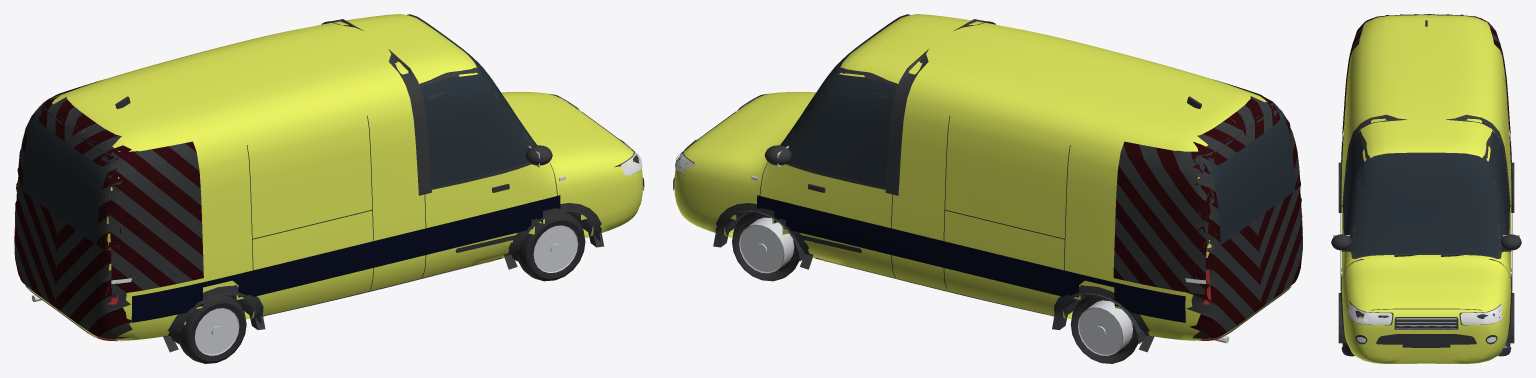
Rendered from patrol_van.glb.
3 views of the same model, side by side, from view 1: azimuth 30°, elevation 25°; view 2: azimuth 150°, elevation 25°; view 3: azimuth 270°, elevation 25° (orthographic). The views are drawn at different scales.
Visible parts, largest first — view 1: Body, Blue-1, Glass-1, RearGlass, WheelRR, WheelFR, Bpillar-1, ChevS-16, ChevS-15, ChevS-18, ChevS-17, ChevS-19 (+20 smaller); view 2: Body, Blue1, Glass1, RearGlass, WheelFL, WheelRL, Bpillar1, ChevS16, ChevS15, ChevS17, ChevS18, ChevS14 (+19 smaller); view 3: Body, Windshield, Glass1, Glass-1, Intake, HeadReflector, Grille, WsFrame, Bpillar1, Bpillar-1, HeadBezel, Mirror1 (+10 smaller).
Part boxes in pixels (left/top/right/bottom): Body: left=18, top=14, right=642, bottom=340; Blue-1: left=131, top=195, right=560, bottom=322; Glass-1: left=421, top=74, right=537, bottom=187; RearGlass: left=19, top=101, right=122, bottom=244; WheelRR: left=179, top=294, right=246, bottom=363; WheelFR: left=517, top=212, right=585, bottom=281; Bpillar-1: left=388, top=49, right=431, bottom=195; ChevS-16: left=89, top=181, right=203, bottom=272; ChevS-15: left=99, top=192, right=203, bottom=280; ChevS-18: left=103, top=152, right=202, bottom=238; ChevS-17: left=104, top=170, right=203, bottom=255; ChevS-19: left=113, top=150, right=201, bottom=221; Body: left=674, top=14, right=1290, bottom=340; Blue1: left=757, top=195, right=1185, bottom=322; Glass1: left=780, top=74, right=896, bottom=187; RearGlass: left=1194, top=102, right=1298, bottom=244; WheelFL: left=732, top=212, right=799, bottom=281; WheelRL: left=1070, top=294, right=1138, bottom=363; Bpillar1: left=885, top=49, right=928, bottom=195; ChevS16: left=1119, top=144, right=1205, bottom=272; ChevS15: left=1123, top=141, right=1206, bottom=256; ChevS17: left=1117, top=165, right=1205, bottom=289; ChevS18: left=1116, top=183, right=1205, bottom=294; ChevS14: left=1139, top=144, right=1208, bottom=239; Body: left=1341, top=15, right=1511, bottom=363; Windshield: left=1354, top=153, right=1498, bottom=256; Glass1: left=1481, top=133, right=1509, bottom=250; Glass-1: left=1343, top=133, right=1371, bottom=250; Intake: left=1376, top=334, right=1476, bottom=344; HeadReflector: left=1347, top=304, right=1503, bottom=324; Grille: left=1394, top=317, right=1458, bottom=329; WsFrame: left=1351, top=152, right=1501, bottom=258; Bpillar1: left=1446, top=114, right=1510, bottom=207; Bpillar-1: left=1342, top=114, right=1406, bottom=207; HeadBezel: left=1349, top=301, right=1501, bottom=325; Mirror1: left=1501, top=234, right=1521, bottom=250.
Bounding box in the file's own units: 5.62 × 2.34 × 2.15.
